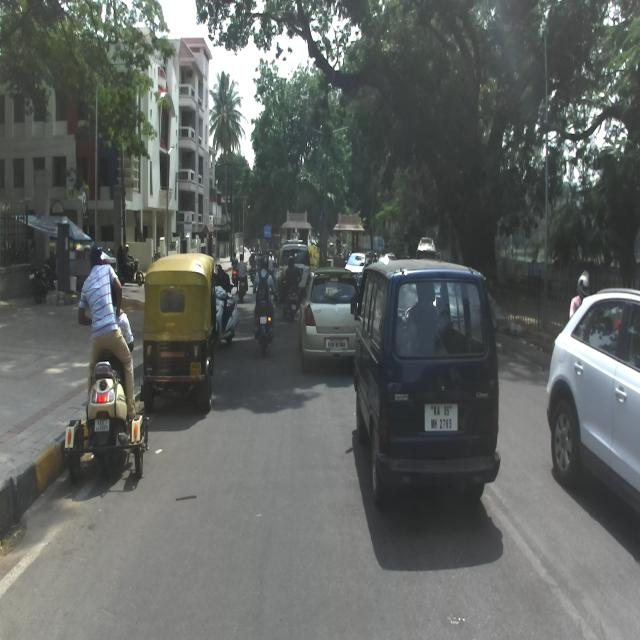auto ahead at: (145, 256, 216, 404)
car ahead at: (356, 260, 500, 500), (552, 283, 640, 511), (298, 266, 357, 366)
motorcycle ahead at: (72, 363, 146, 481)
